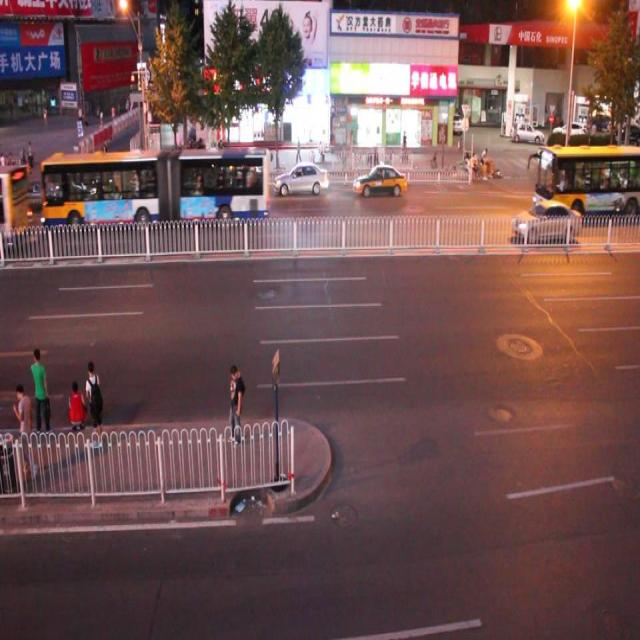car: (532, 142, 640, 218), (511, 200, 579, 241), (80, 178, 128, 221), (176, 158, 222, 202), (272, 163, 328, 195), (352, 163, 404, 197), (19, 175, 62, 210), (1, 173, 18, 213)
van: (41, 148, 269, 228), (1, 162, 33, 244)
